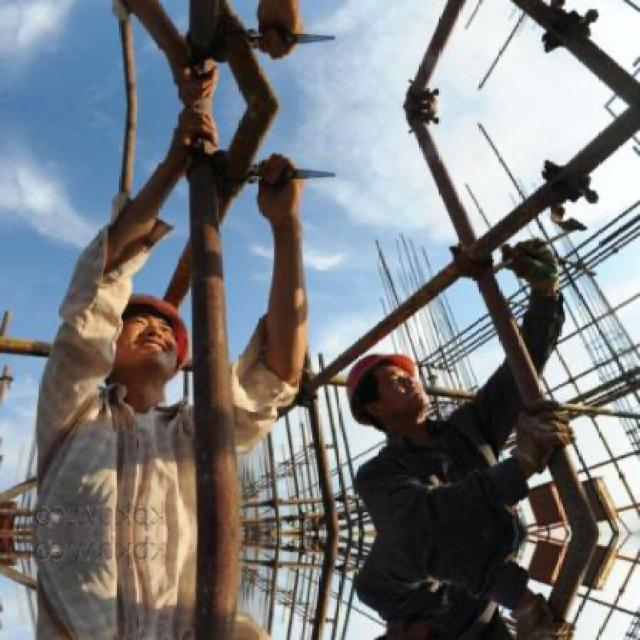con casco: (335, 305, 497, 476), (100, 276, 251, 427)
